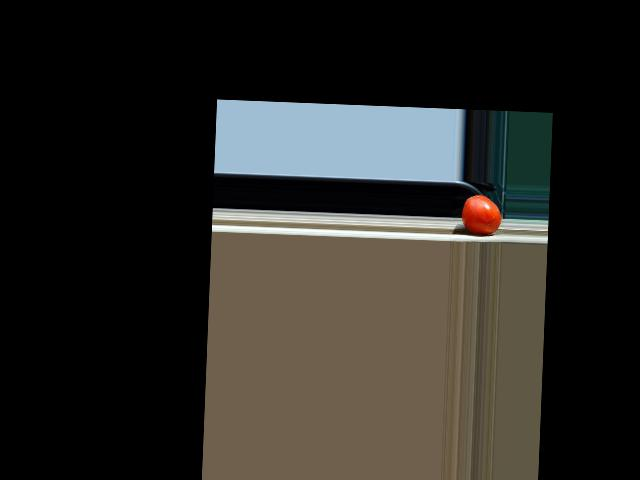tomato: (461, 194, 501, 234)
